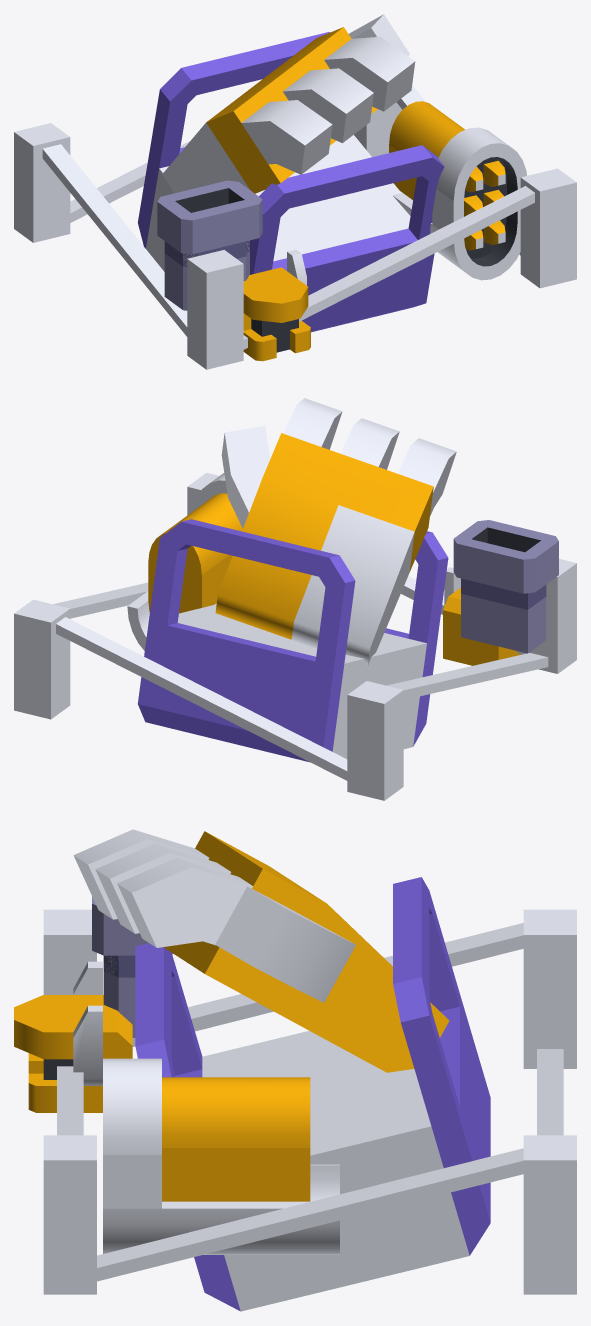
Rendered from scrap-heap-1.obj.
The picture shows the model from 3 angles, top to bottom: view 1: azimuth 30°, elevation 25°; view 2: azimuth 150°, elevation 25°; view 3: azimuth 270°, elevation 25°; orthographic projection. The views are drawn at different scales.
Visible parts, largest first — view 1: mergedBlocks; view 2: mergedBlocks; view 3: mergedBlocks.
Part boxes in pixels (x1,y1,x2,y2): mergedBlocks: [14, 14, 576, 369]; mergedBlocks: [14, 398, 576, 800]; mergedBlocks: [14, 829, 576, 1311].
Bounding box in the file's own units: 2.02 × 1.53 × 1.9.
